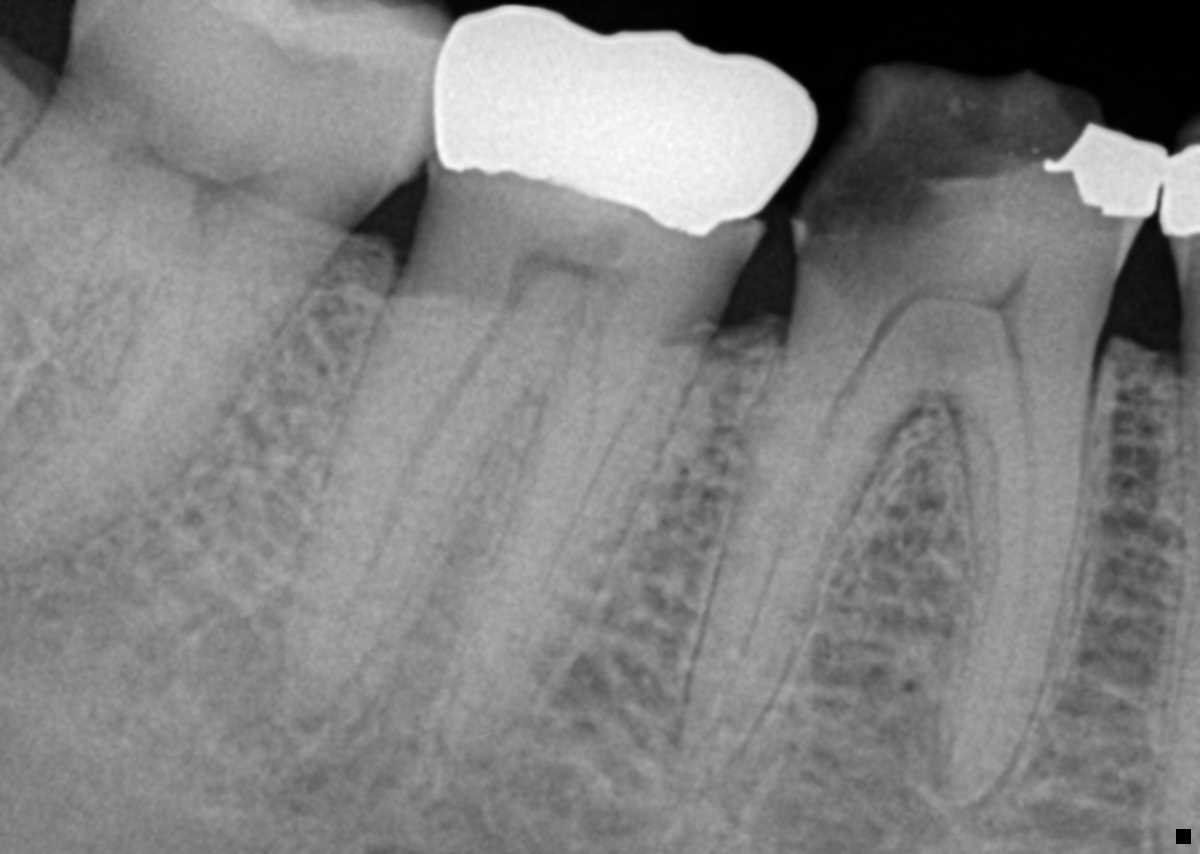Distal Canal: (326, 326, 501, 667), (735, 352, 876, 681)
Distal Root: (278, 275, 548, 721), (670, 319, 915, 789), (0, 120, 151, 414)
Main Root: (1164, 359, 1200, 835)
Mesial Canal: (42, 272, 209, 527), (963, 369, 1034, 773), (564, 345, 599, 507)
Mesial Root: (437, 352, 689, 751), (4, 256, 289, 568)
decay: (799, 63, 1066, 313)
